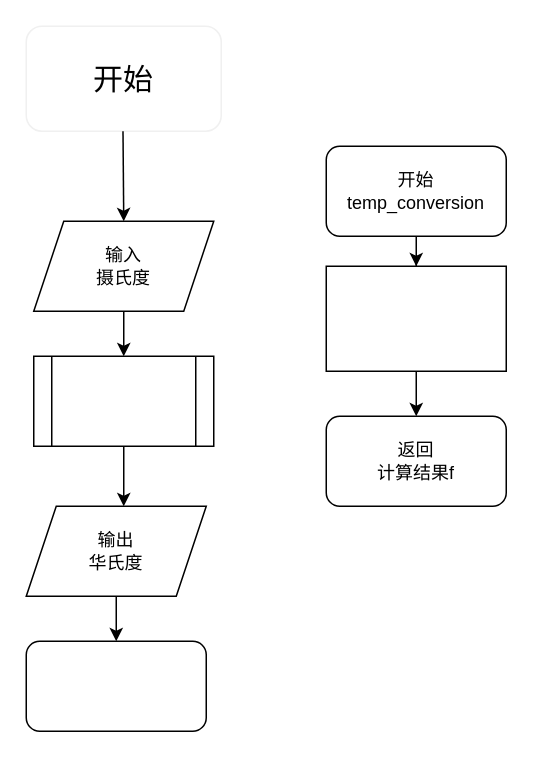
This 533x758 diagram has some shape labels left out. Each missing label, with the centre of its shape:
"f = c * 1.8 + 32" belongs at point (415, 318).
"temp_conversion" belongs at point (123, 400).
"结束" belongs at point (115, 685).
